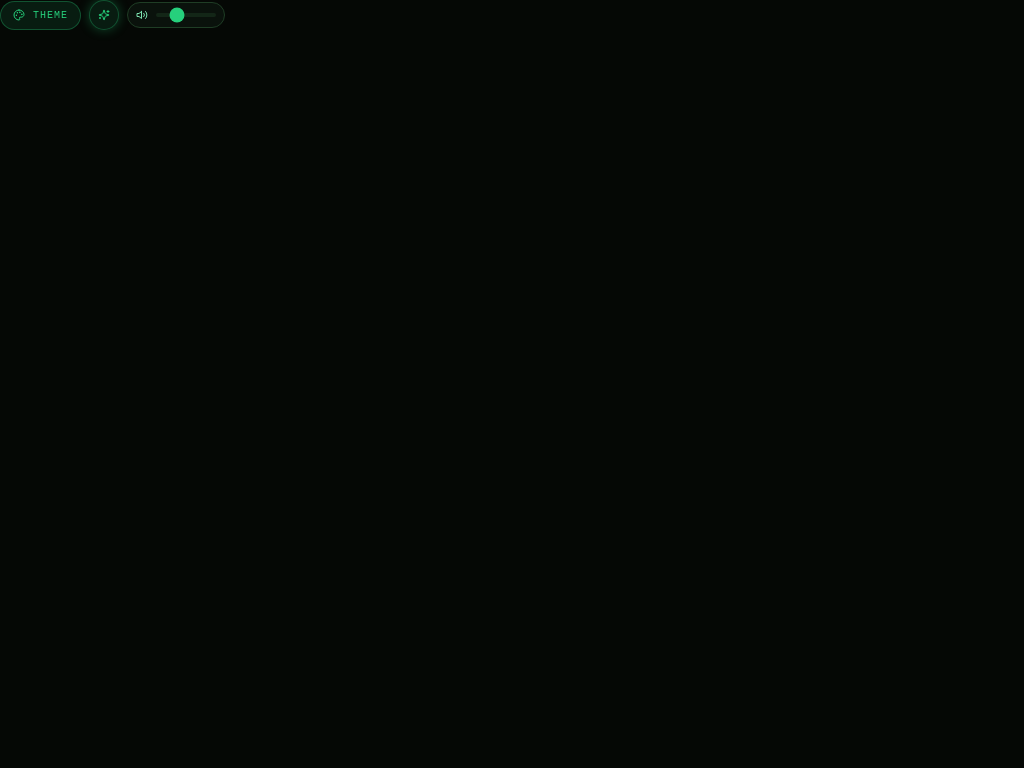
GlobalControls Theme Integration › verifies that attempting to generate a theme within 1 hour of another custom theme shows the "You can only generate one custom theme per hour" rate limit messag
// Open picker dropdown
Click the button with test id "global-theme-picker" at (40, 15), box [0, 0, 81, 30]
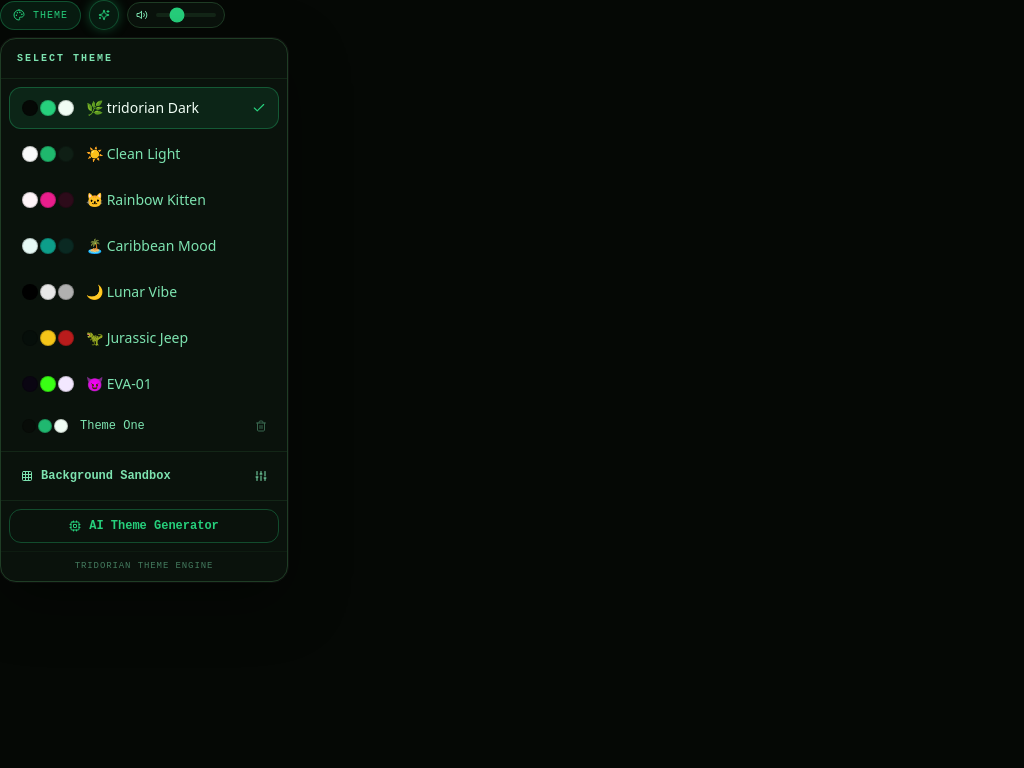
// Trigger the generator modal
Click the button with test id "ai-theme-gen-trigger" at (144, 526), box [9, 508, 279, 542]
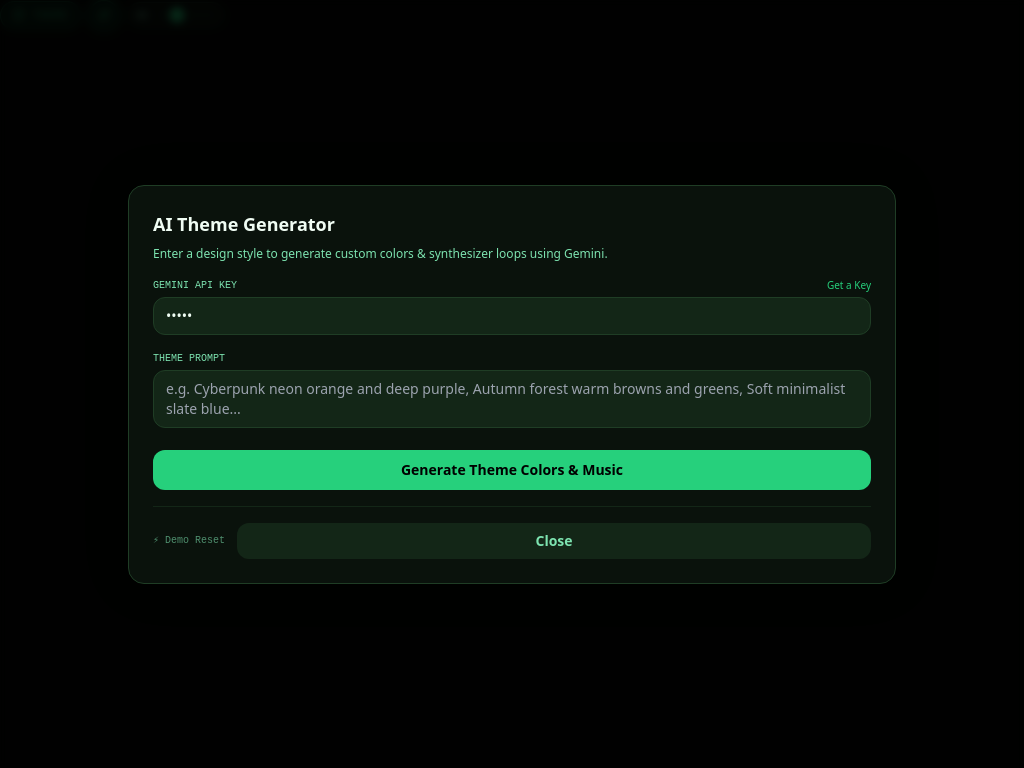
// Enter prompt
Replace the text in the text box with placeholder "e.g. Cyberpunk neon orange" with "Theme Two Prompt" at (512, 398), box [153, 370, 871, 428]
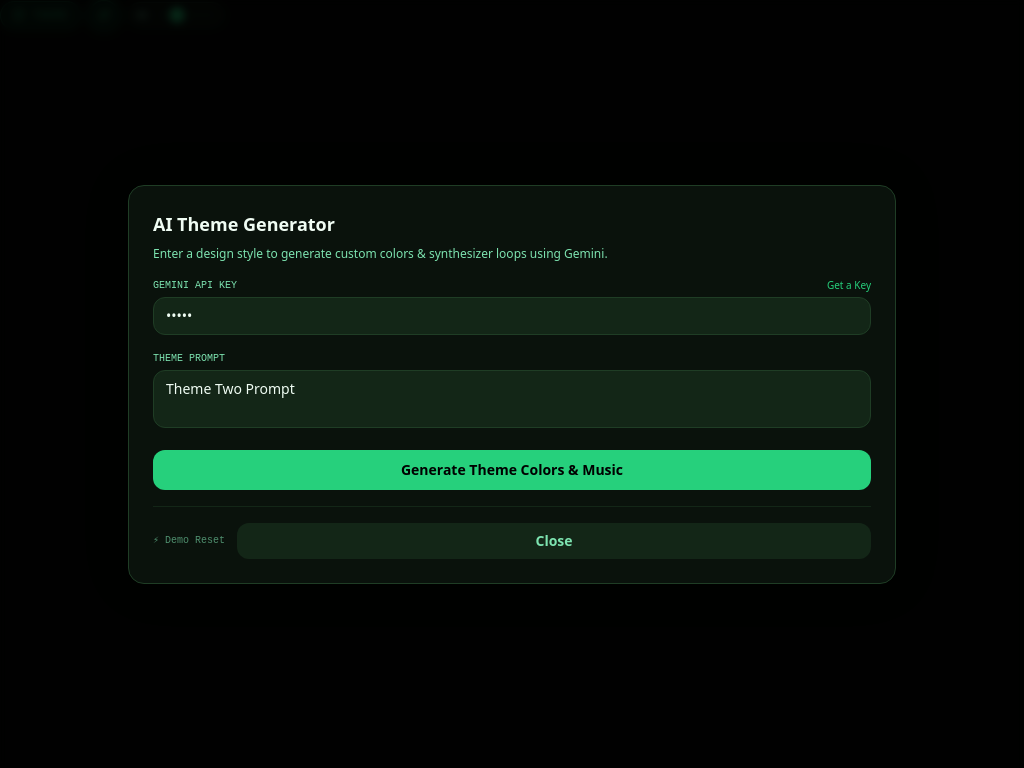
// Click generate button
Click the button "Generate Theme Colors & Music" at (512, 470), box [153, 450, 871, 490]
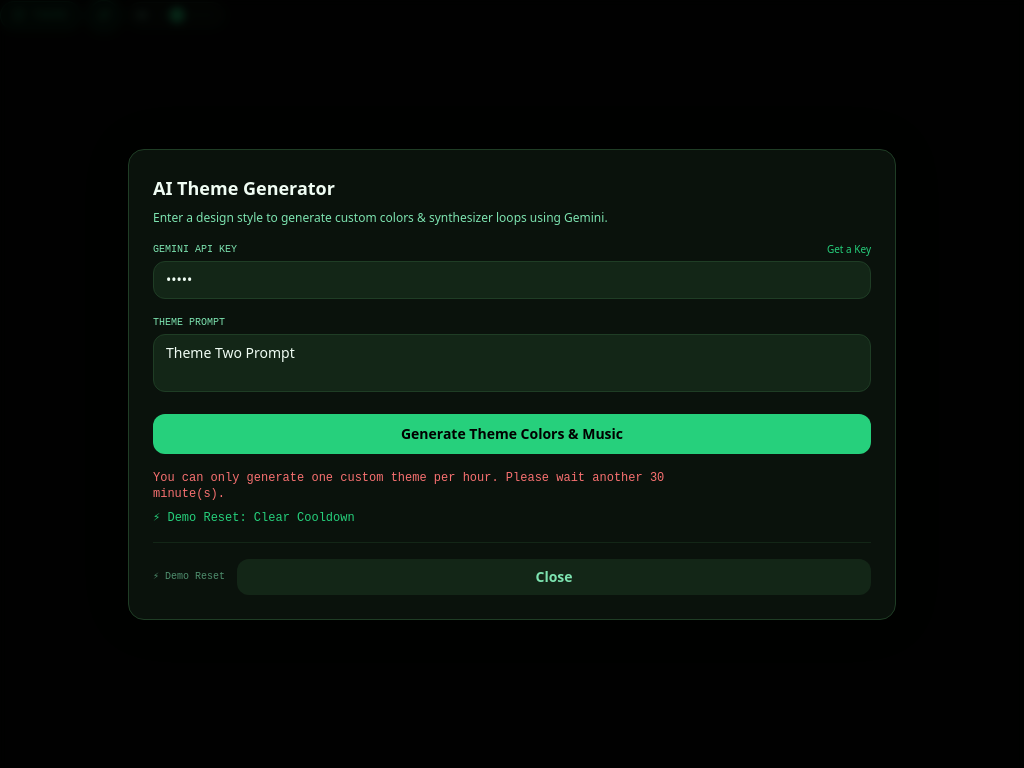
Check: the text "Please wait another 30 minute" is shown, box [153, 470, 664, 500]
